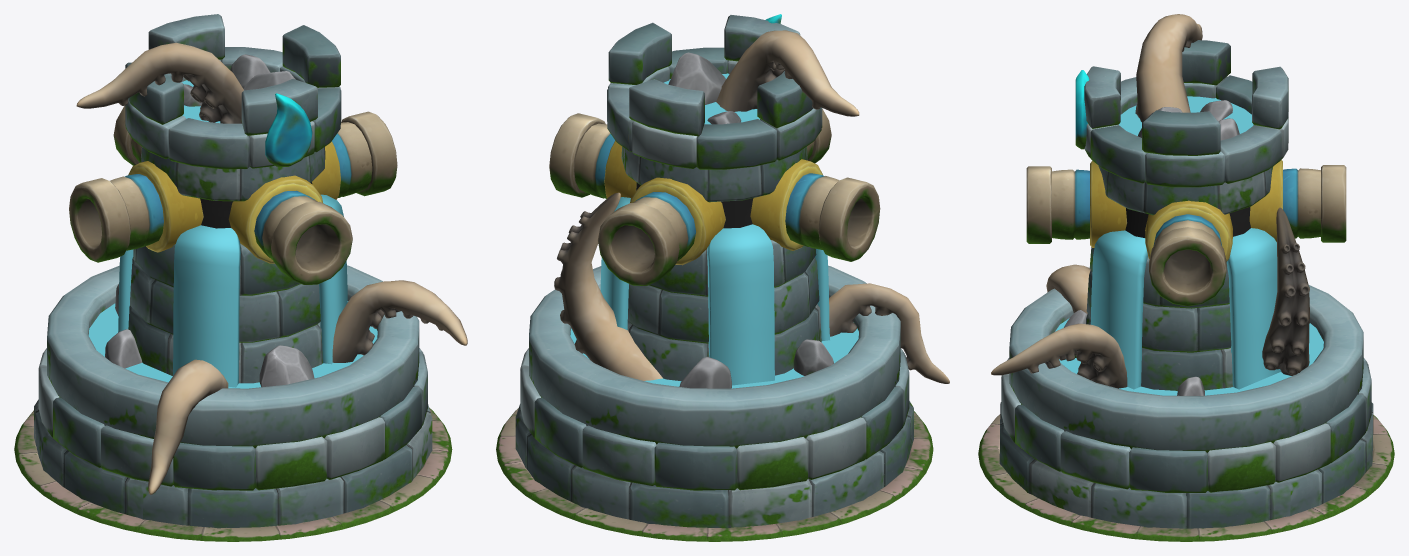
Rendered from SM_TowerDefense_Aqua_Lv2.fbx.
The picture shows the model from 3 angles, left to right: view 1: azimuth 30°, elevation 25°; view 2: azimuth 150°, elevation 25°; view 3: azimuth 270°, elevation 25°; orthographic projection. The views are drawn at different scales.
Parts seen in each view (by area): view 1: SM_TowerDefense_Aqua_Lv2; view 2: SM_TowerDefense_Aqua_Lv2; view 3: SM_TowerDefense_Aqua_Lv2.
Boxes of the visible parts, left/top/right/bottom form: SM_TowerDefense_Aqua_Lv2: left=14, top=14, right=467, bottom=541; SM_TowerDefense_Aqua_Lv2: left=496, top=14, right=949, bottom=541; SM_TowerDefense_Aqua_Lv2: left=978, top=14, right=1394, bottom=541.
Size of the model in its own units: 925 by 1002 by 925.
